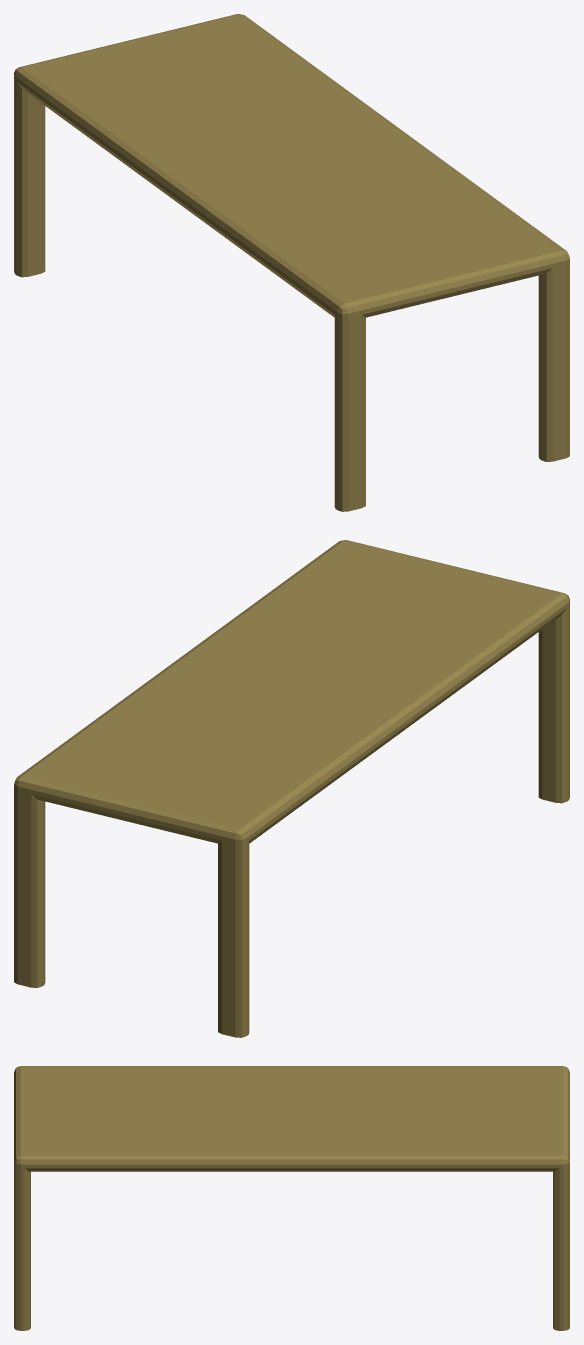
File: Mesa.glb
3 renders of one model, top to bottom at view 1: azimuth 30°, elevation 25°; view 2: azimuth 150°, elevation 25°; view 3: azimuth 270°, elevation 25°, orthographic. The views are drawn at different scales.
Parts seen in each view (by area): view 1: Cube.002; view 2: Cube.002; view 3: Cube.002.
Boxes of the visible parts, box(x1,y1,x2,y2) form: Cube.002: box(14, 14, 569, 511); Cube.002: box(14, 540, 569, 1037); Cube.002: box(14, 1066, 569, 1330).
Size of the model in its own units: 0.9817 by 0.8306 by 2.43.
